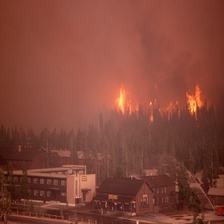fire: (103, 74, 208, 126)
